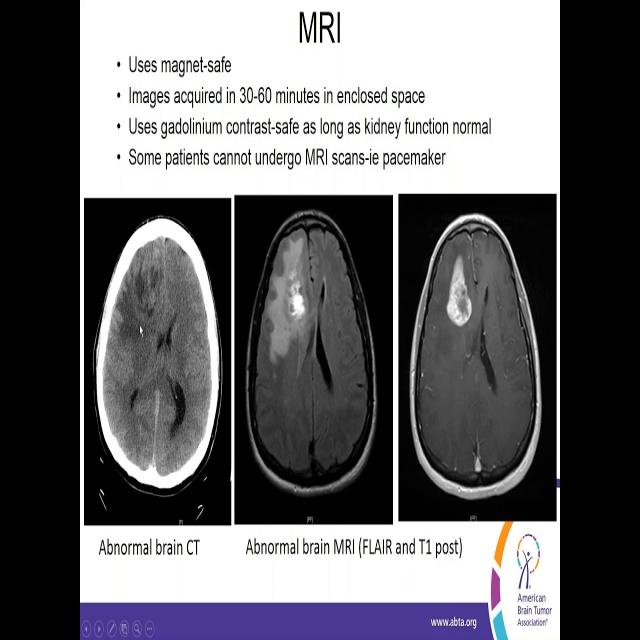Tumor: (449, 258, 470, 321), (291, 293, 307, 317)
